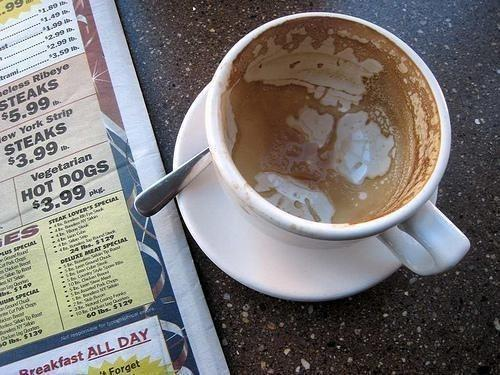cup-handle: (202, 11, 472, 277)
